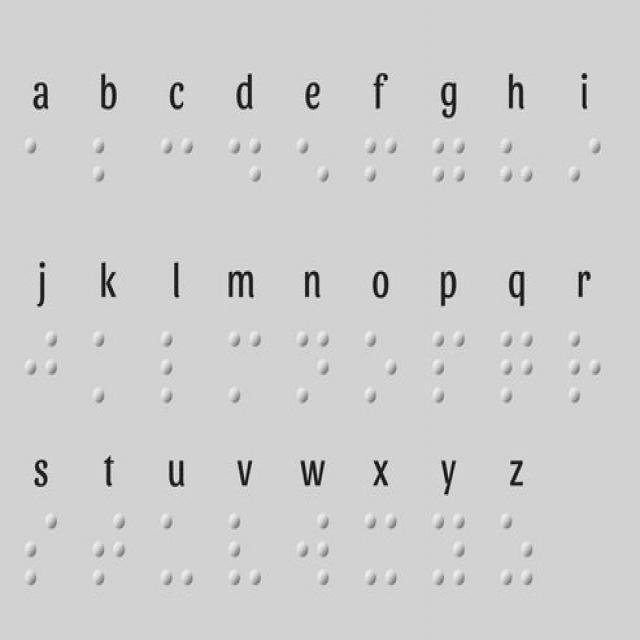braiile: (418, 312, 476, 422), (290, 506, 344, 604), (152, 494, 200, 600), (358, 317, 405, 422), (494, 313, 541, 413), (21, 498, 68, 598), (356, 502, 406, 594), (495, 498, 540, 600), (85, 318, 128, 422), (19, 317, 64, 416), (224, 504, 271, 598), (221, 324, 269, 416), (563, 322, 609, 418), (156, 317, 200, 416), (290, 317, 333, 417), (428, 502, 472, 599), (221, 123, 268, 212), (358, 125, 405, 213), (426, 126, 474, 212), (86, 508, 134, 594), (152, 125, 200, 210), (86, 125, 134, 209), (290, 127, 336, 213), (563, 125, 609, 210), (496, 123, 538, 213), (21, 124, 58, 204)
